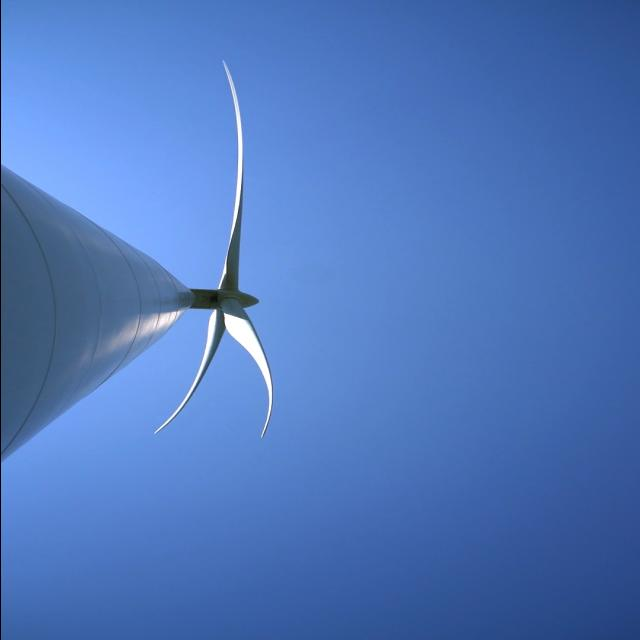blade 1: (153, 347, 220, 438)
blade 2: (208, 38, 270, 284)
blade 3: (223, 314, 286, 564)
